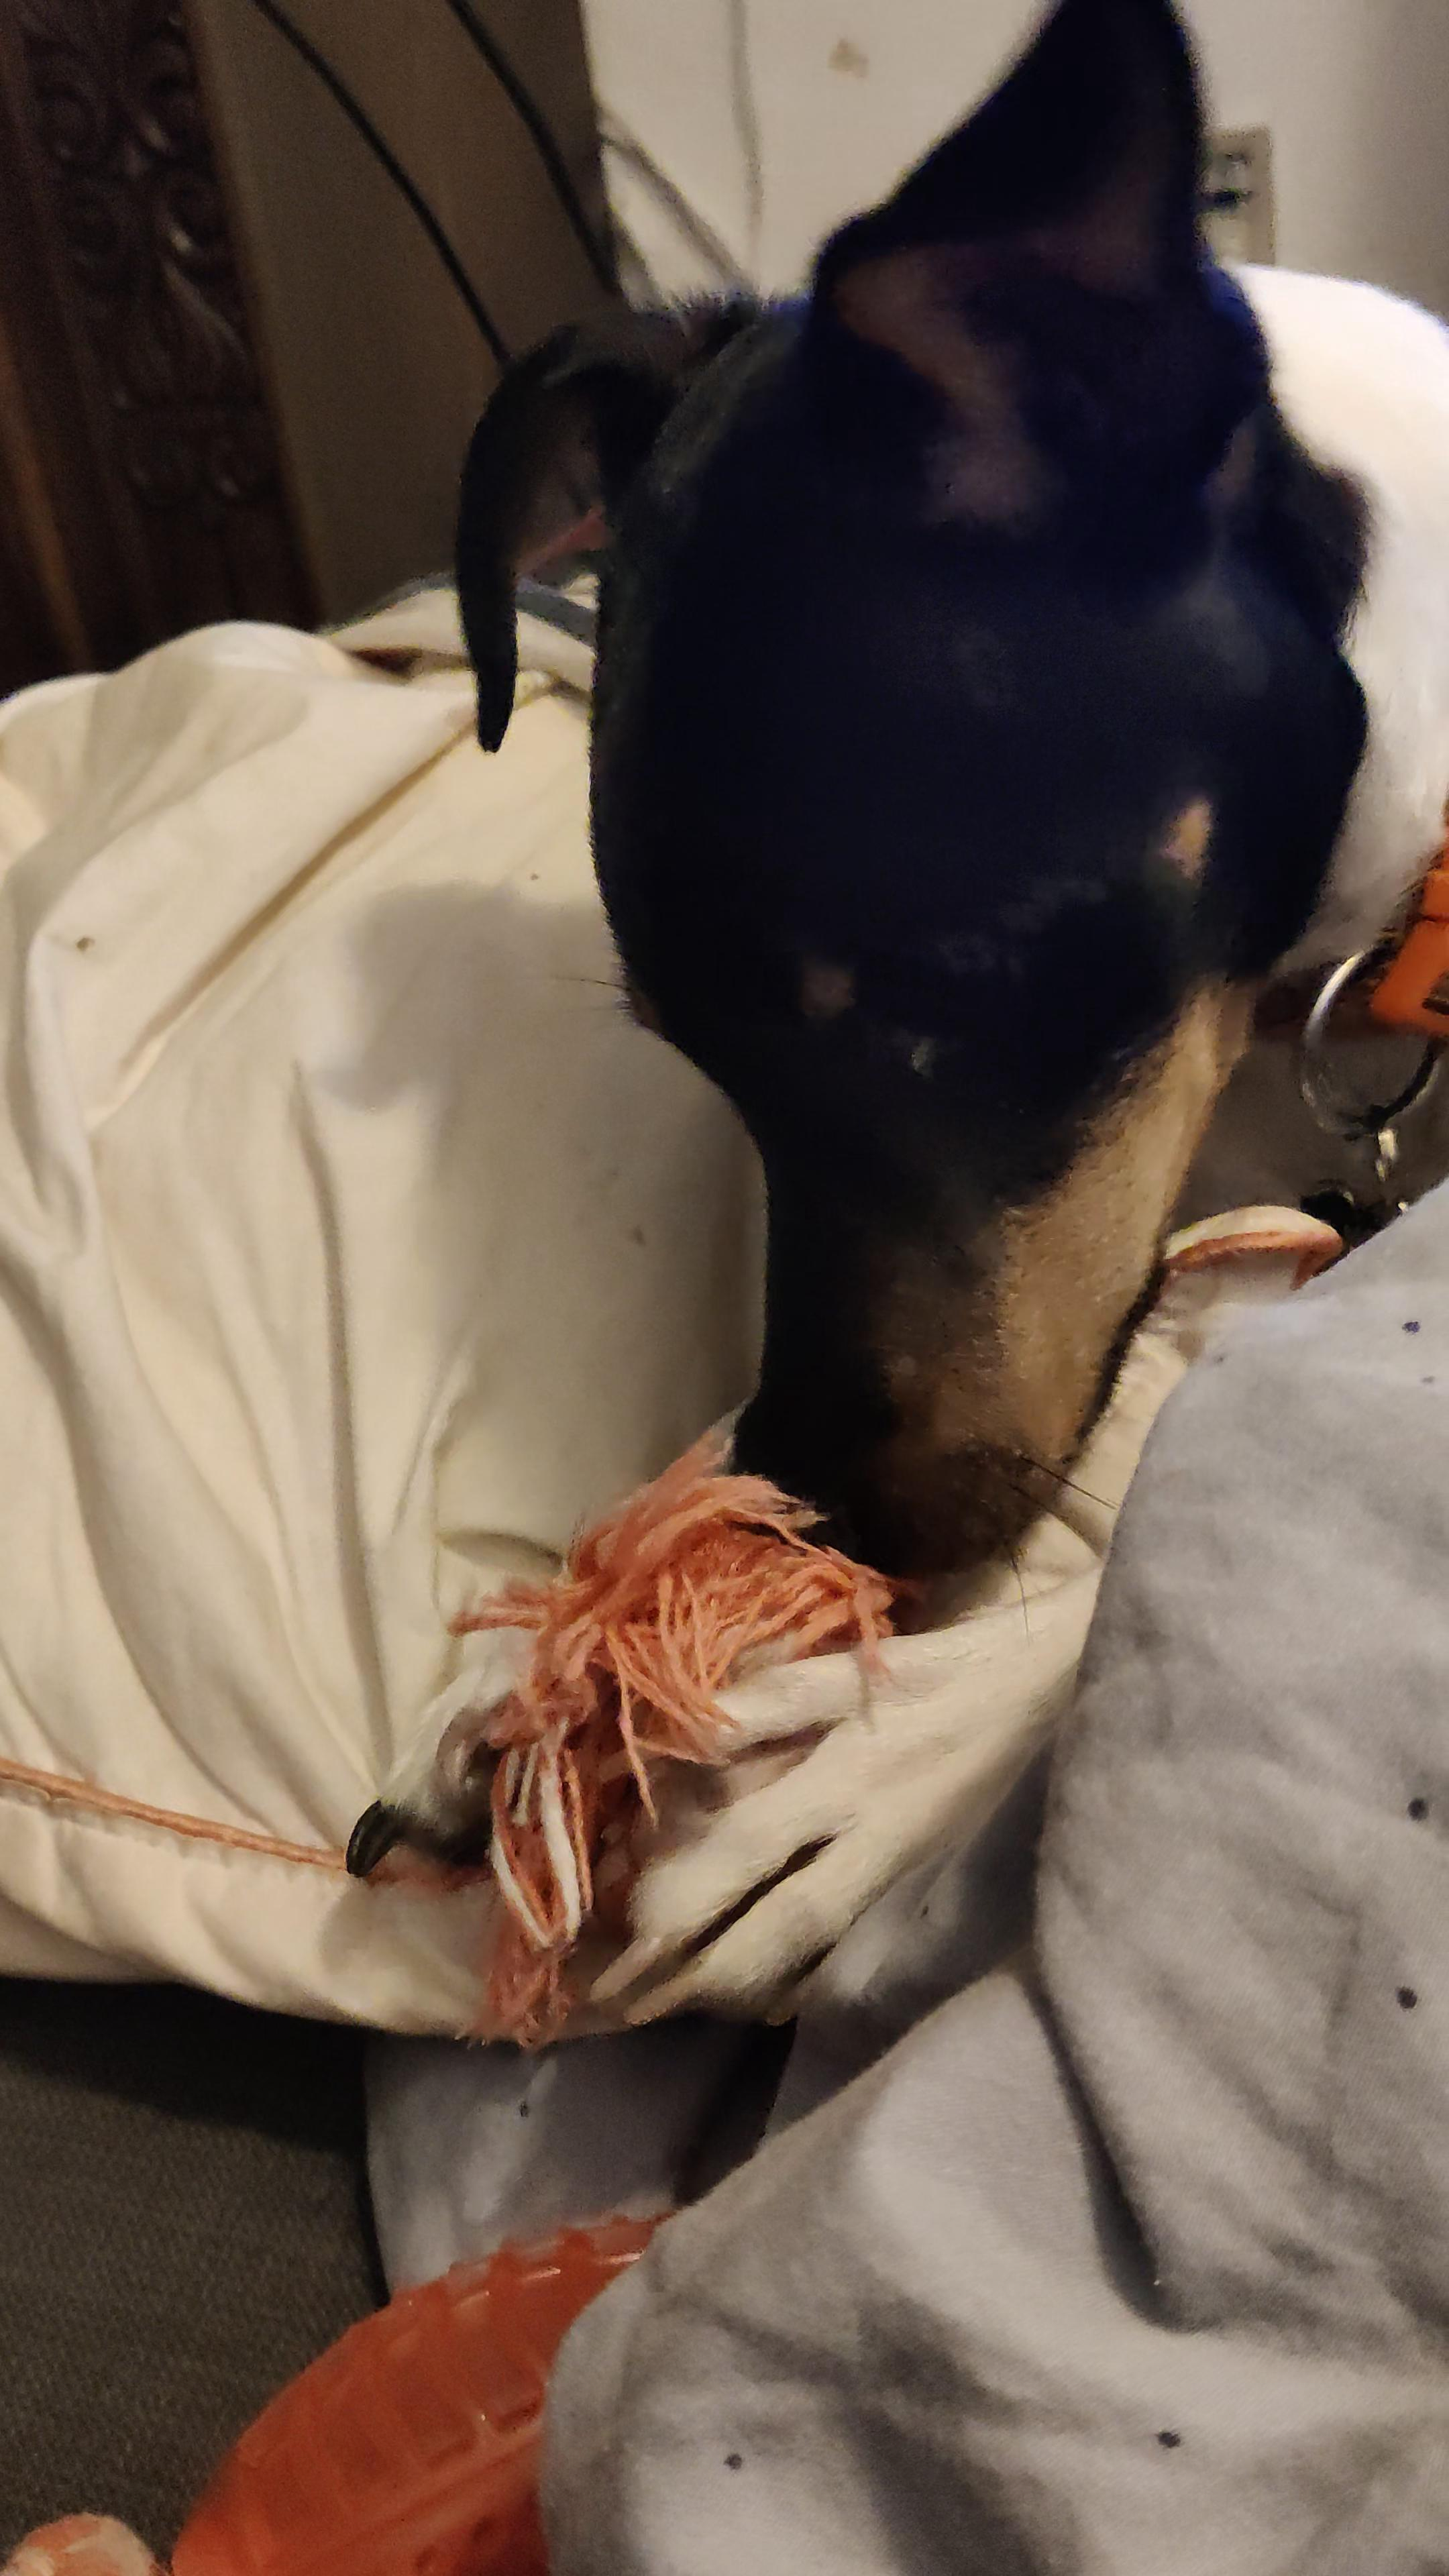Dog: (333, 0, 1449, 2066)
